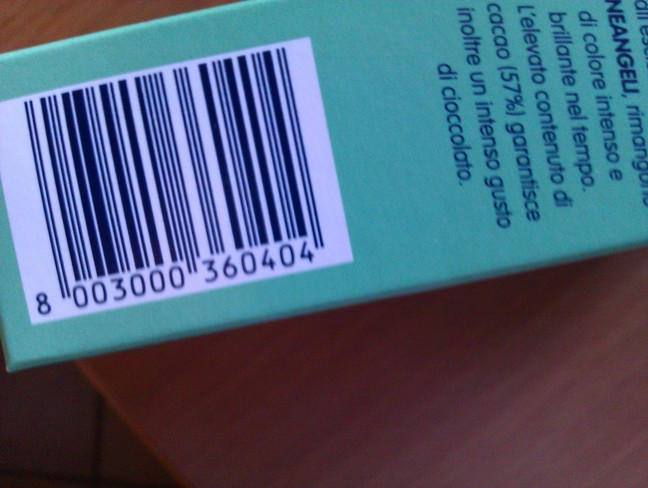barcode: (8, 48, 346, 316)
